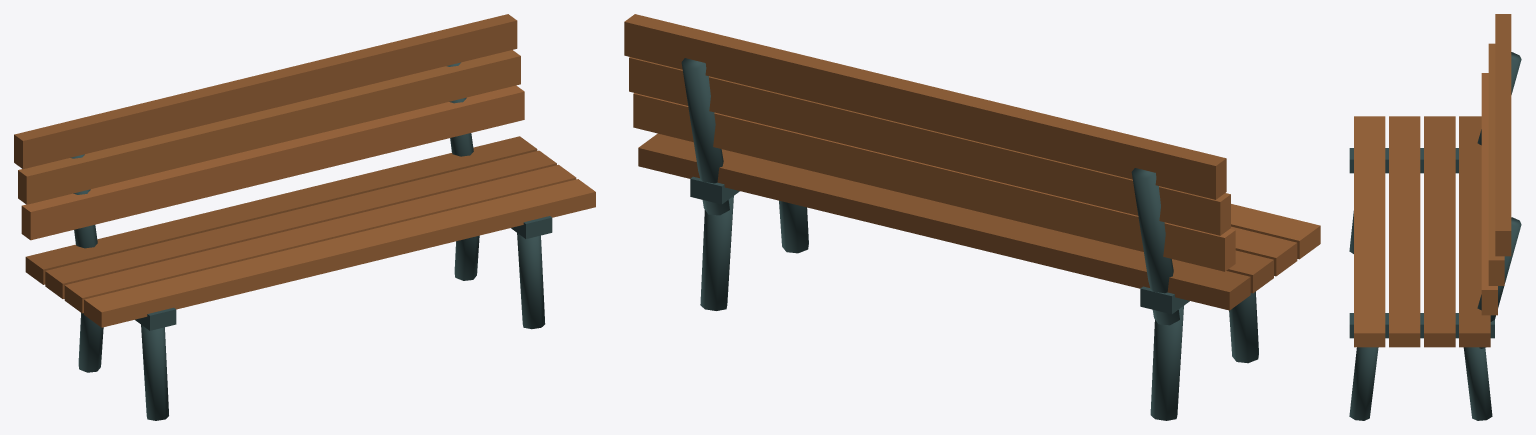
File: harbour-bench.glb
The picture shows the model from 3 angles, left to right: view 1: azimuth 30°, elevation 25°; view 2: azimuth 150°, elevation 25°; view 3: azimuth 270°, elevation 25°; orthographic projection. The views are drawn at different scales.
Parts seen in each view (by area): view 1: harbour-bench; view 2: harbour-bench; view 3: harbour-bench.
Boxes of the visible parts, x1,y1,x2,y2 form: harbour-bench: (14,14,595,420); harbour-bench: (624,14,1320,420); harbour-bench: (1349,14,1521,420).
Bounding box in the file's own units: 2.05 × 0.9363 × 0.6875.
